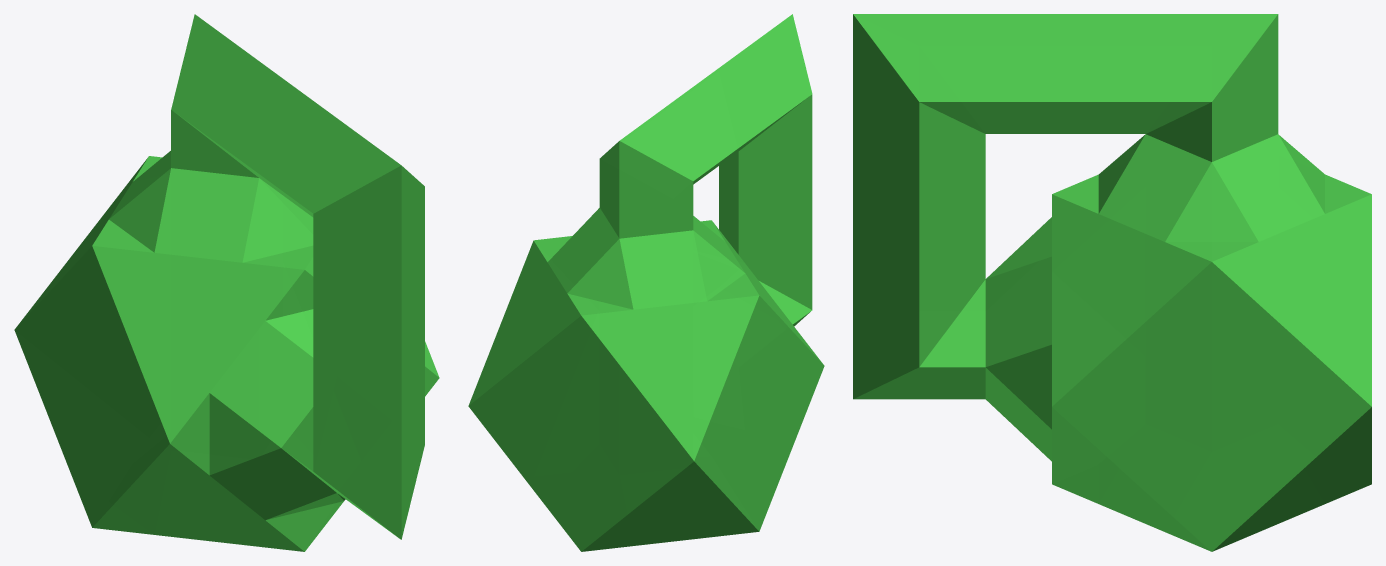
The model's file is Cuboctahedron2.obj.
The picture shows the model from 3 angles, left to right: view 1: azimuth 30°, elevation 25°; view 2: azimuth 150°, elevation 25°; view 3: azimuth 270°, elevation 25°; orthographic projection. The views are drawn at different scales.
Size of the model in its own units: 1.41 by 2.29 by 2.29.
